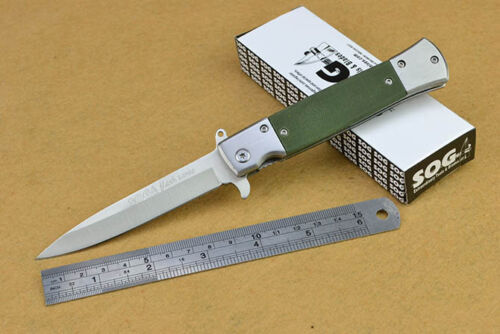knief: (23, 63, 439, 252)
